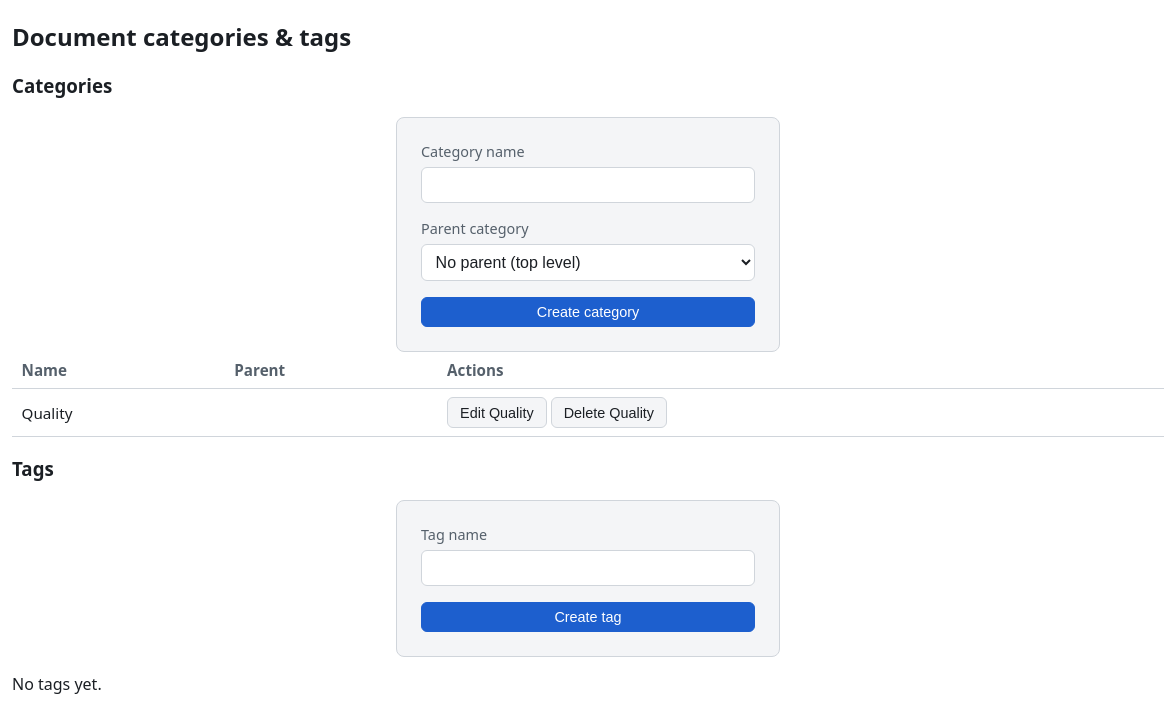
Test case: DocumentCategoriesPage › edits a category
The image size is (1164, 720).
Expected: the cell "Quality" is shown, x1=12 y1=389 x2=225 y2=437
Click the button "Edit Quality" at (497, 413), box x1=447 y1=397 x2=547 y2=428
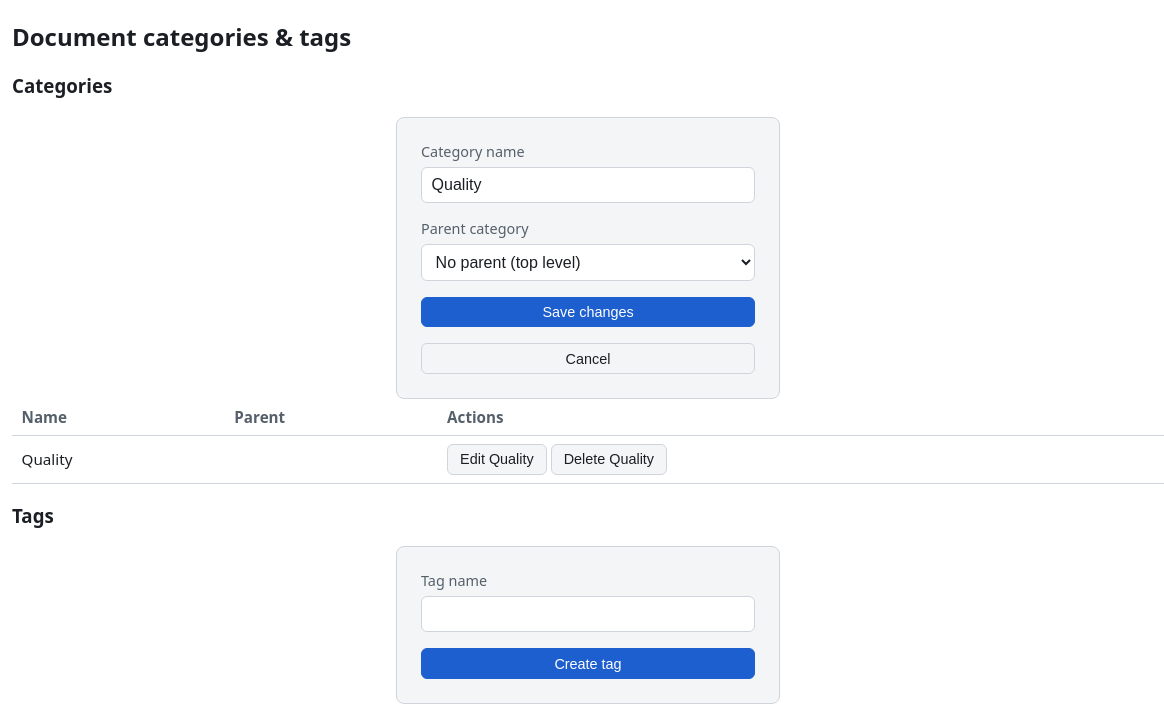
Replace the text in the field labelled "Category name" with "Quality Assurance" at (588, 184), box x1=421 y1=166 x2=755 y2=202
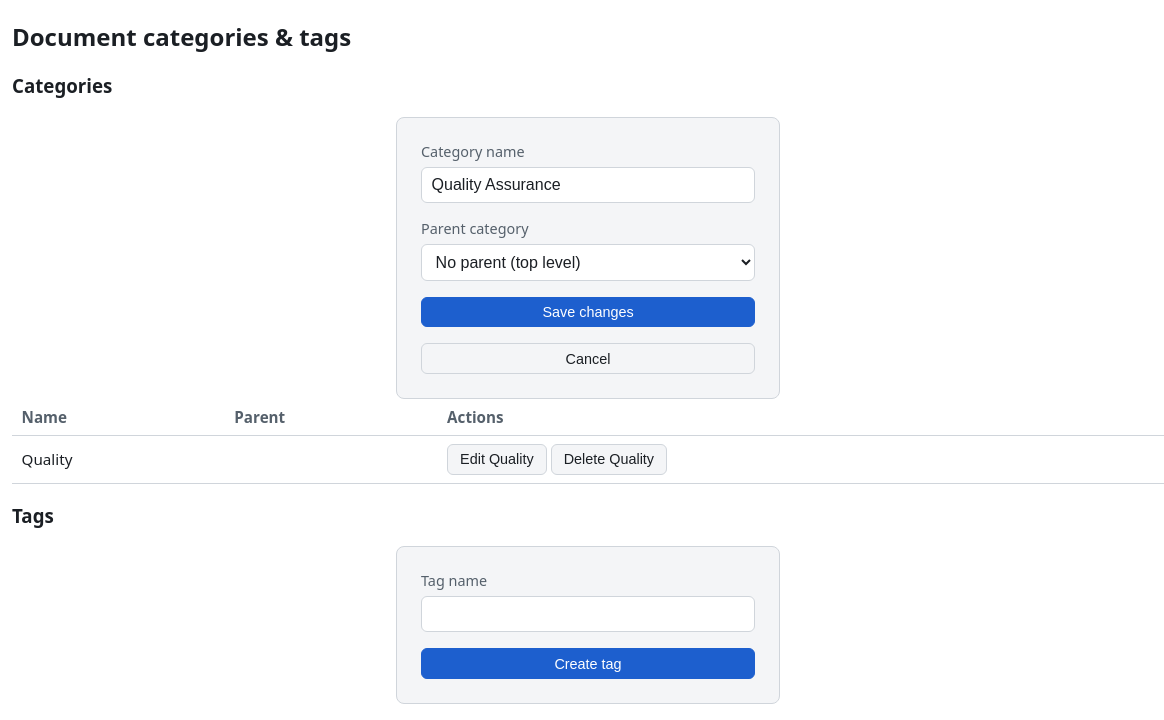
Click the button "Save changes" at (588, 312), box x1=421 y1=296 x2=755 y2=327
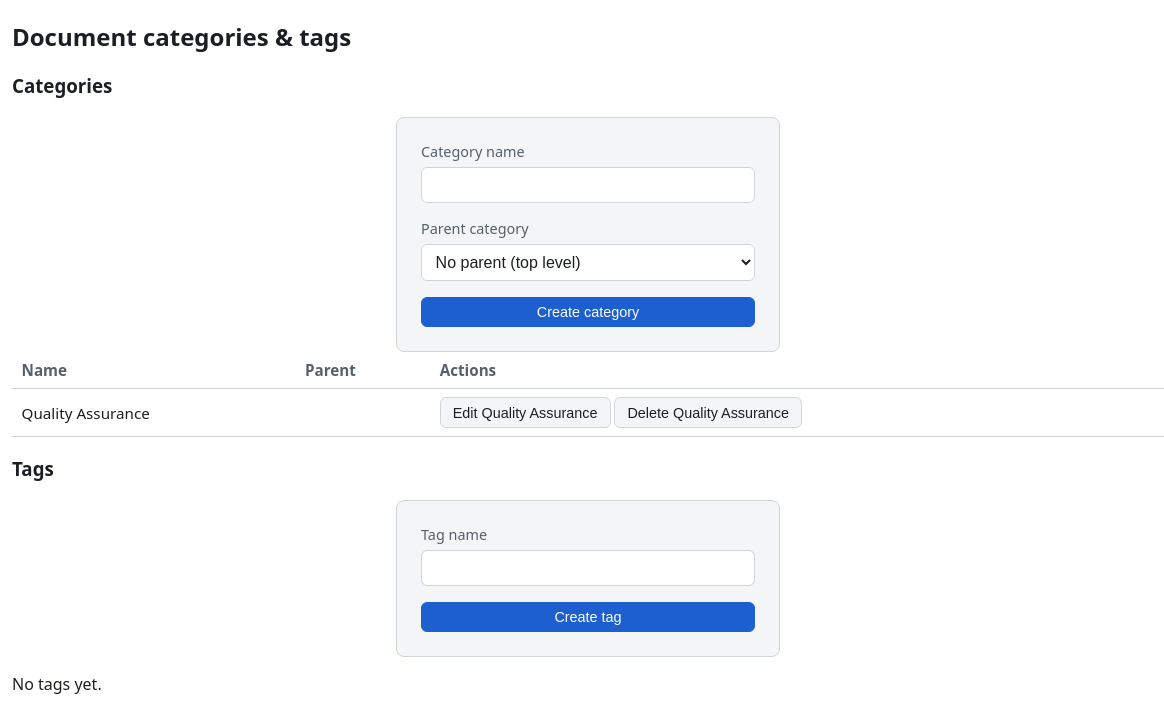
Expected: the cell "Quality Assurance" is shown, x1=12 y1=389 x2=295 y2=437
